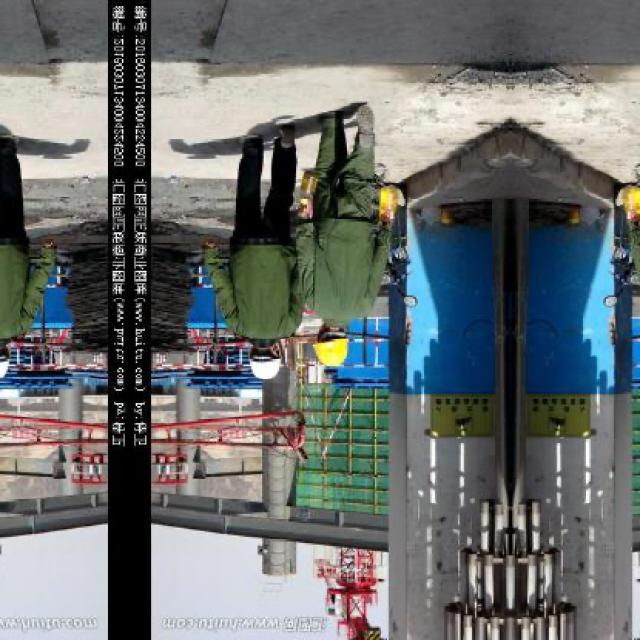con casco: (315, 282, 379, 386), (210, 326, 304, 395)
